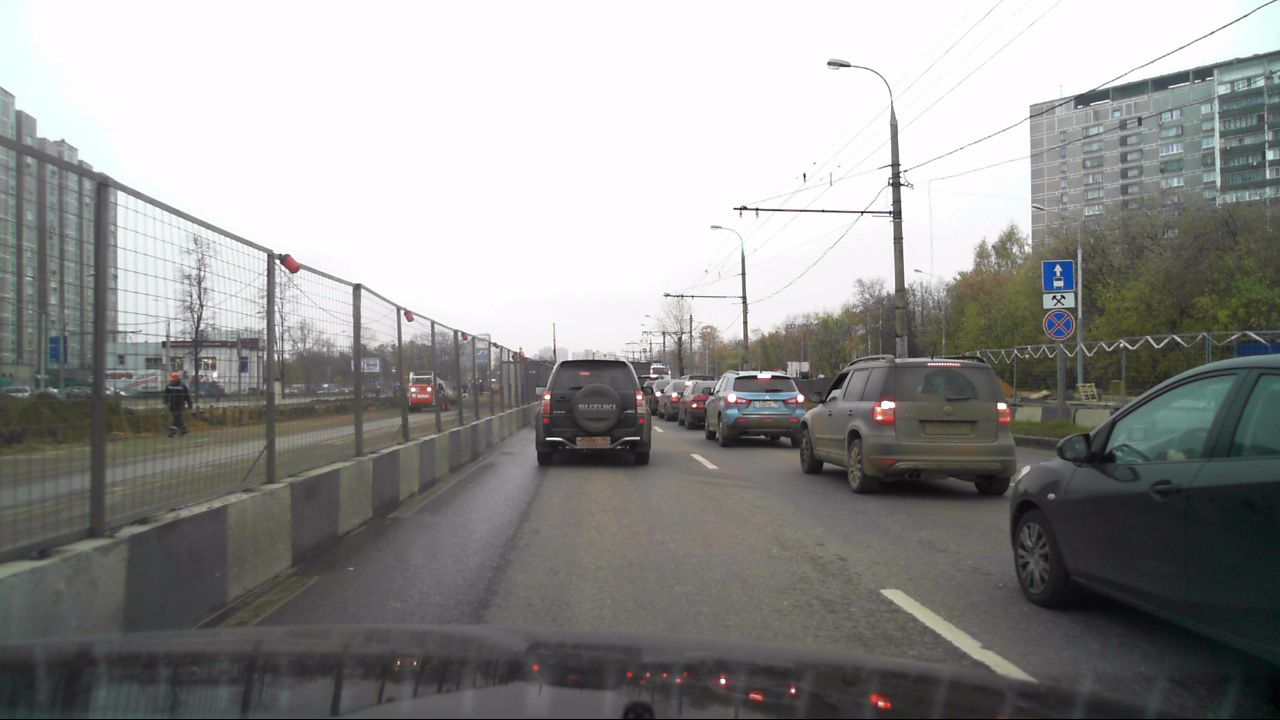No Parking: (1043, 310, 1075, 341)
